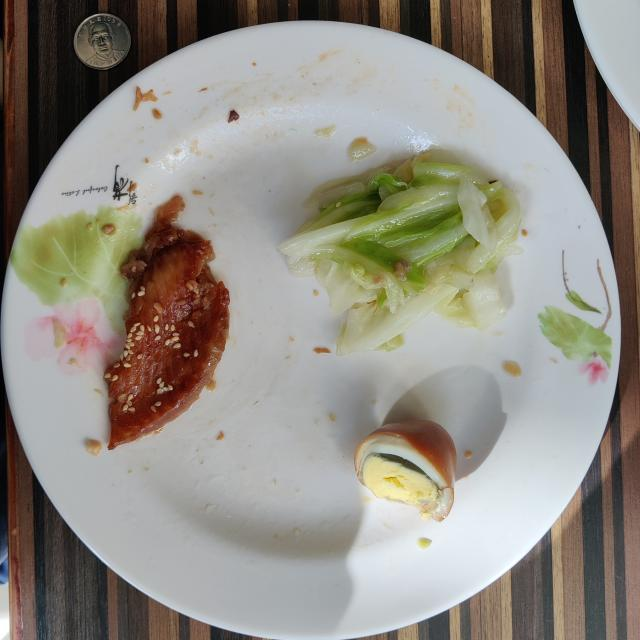Kabayaki sea bream fillet: (104, 196, 230, 449)
cabbage: (278, 154, 521, 355)
coin: (74, 14, 131, 70)
soy egg: (354, 420, 456, 521)
